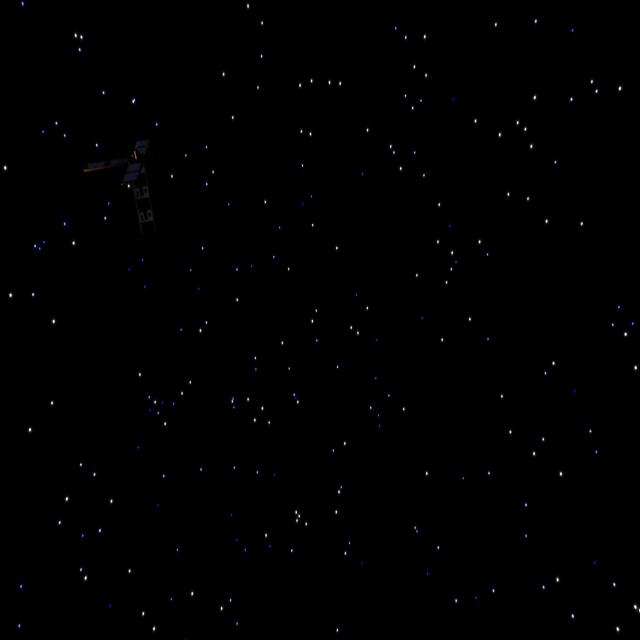medium_debris: (82, 126, 174, 241)
